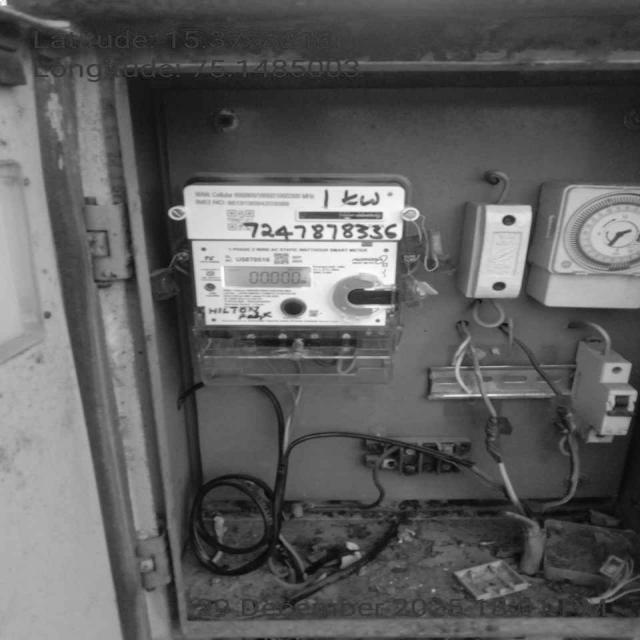meter: (182, 182, 408, 329)
